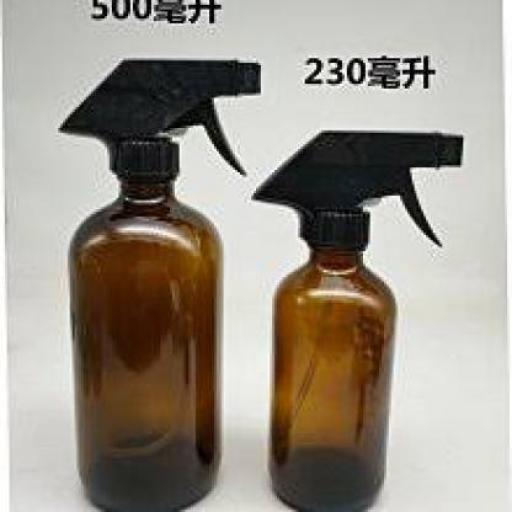glass: (64, 177, 224, 510), (270, 242, 396, 510)
plastic: (250, 128, 458, 251), (56, 56, 258, 178)
